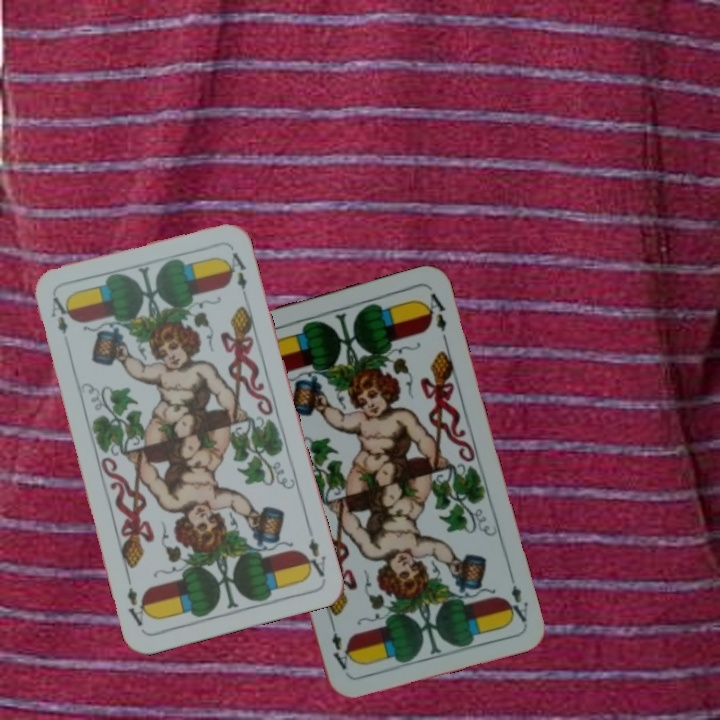EA: (501, 568, 531, 625), (300, 534, 329, 580), (46, 292, 71, 337)
